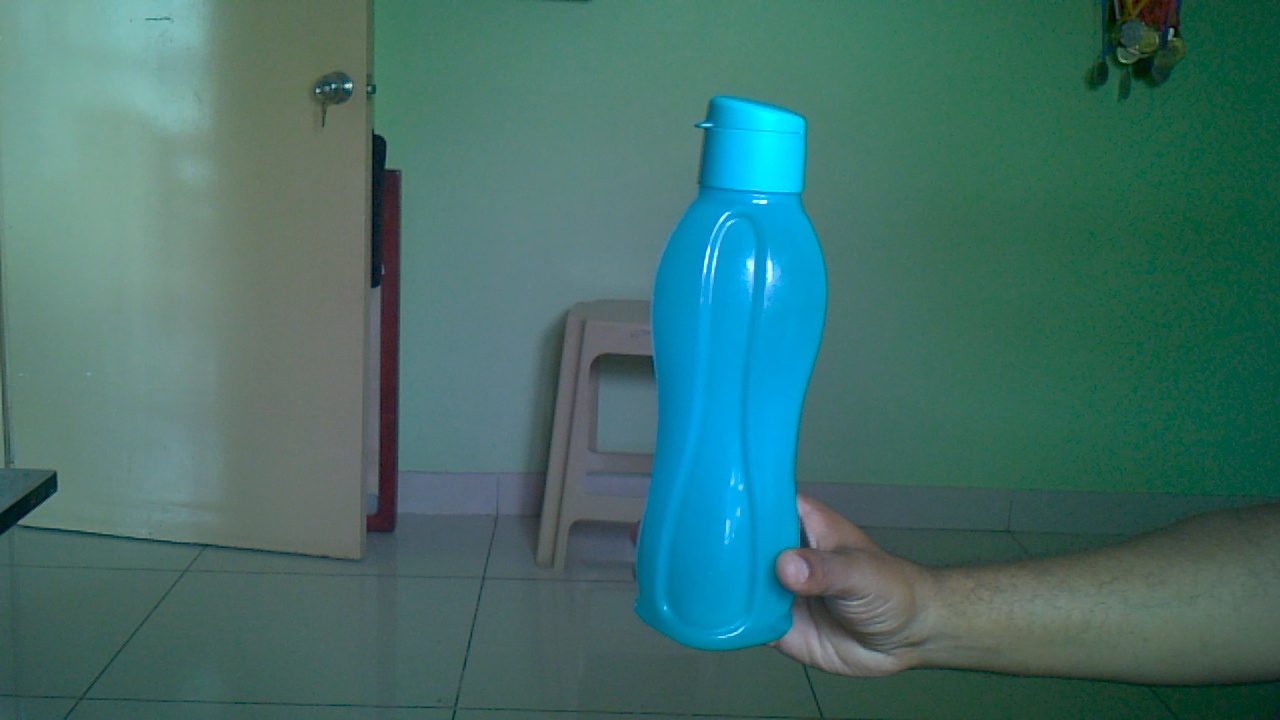bottle: (619, 70, 844, 690)
